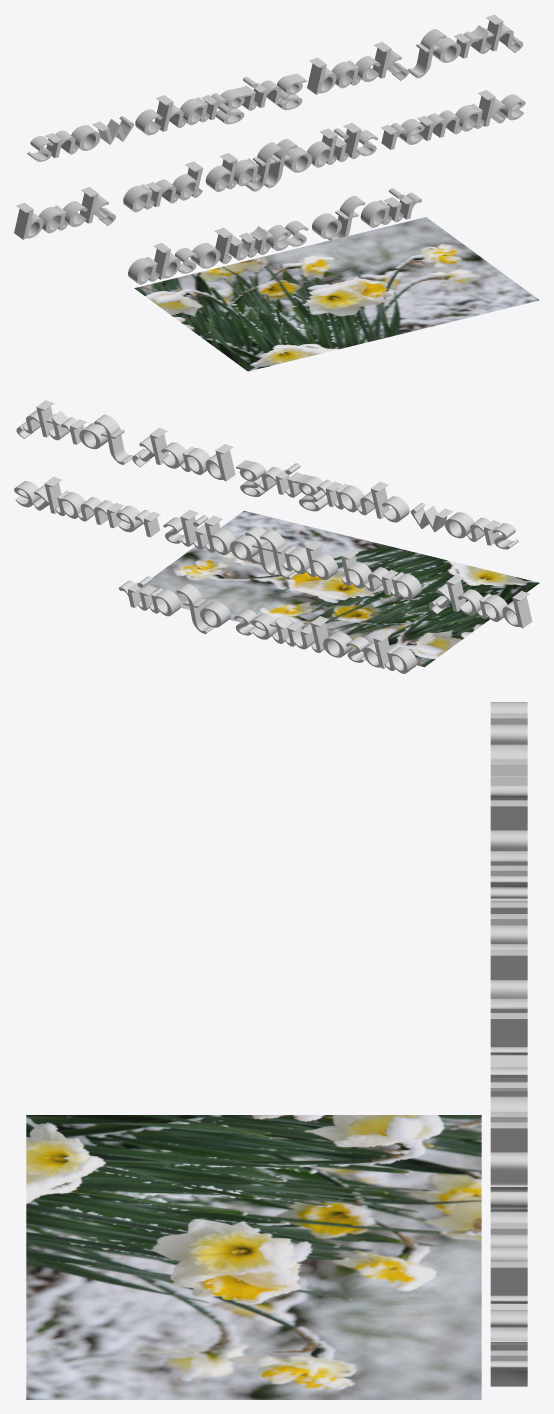
File: haiku1.gltf
The picture shows the model from 3 angles, top to bottom: view 1: azimuth 30°, elevation 25°; view 2: azimuth 150°, elevation 25°; view 3: azimuth 270°, elevation 25°; orthographic projection. The views are drawn at different scales.
Parts seen in each view (by area): view 1: Image Plane, a (×8), f (×4), o (×5), d (×3), b (×3), k (×3), n (×3), g (×2), e (×3), h (×2), c (×3) (+4 smaller); view 2: Image Plane, a (×8), f (×4), o (×5), d (×3), b (×3), k (×3), n (×3), s (×4), g (×2), r (×4), e (×3) (+8 smaller); view 3: Image Plane, h (×2), k (×2), n (×2), r (×2), b, w, m, e, f, i.
Part boxes in pixels (x1,y1,x2,y2): Image Plane: (134,217,539,371); a (×8): (38,60,484,284); f (×4): (245,29,446,240); o (×5): (71,37,461,268); d (×3): (172,128,337,200); b (×3): (14,57,336,279); k (×3): (79,42,506,223); n (×3): (45,80,284,206); g (×2): (215,73,306,124); e (×3): (265,94,525,250); h (×2): (154,14,516,131); c (×3): (63,56,380,226); Image Plane: (141,510,539,667); a (×8): (55,446,507,673); f (×4): (94,414,297,633); o (×5): (79,423,474,657); d (×3): (204,515,371,588); b (×3): (205,444,532,668); k (×3): (33,428,465,611); n (×3): (258,467,500,595); s (×4): (163,517,518,662); g (×2): (236,460,328,511); r (×4): (61,417,342,607); e (×3): (14,481,277,639); Image Plane: (26,1115,481,1399); h (×2): (490,800,527,1191); k (×2): (490,1013,527,1309); n (×2): (490,713,527,943); r (×2): (490,865,527,1386); b: (490,949,527,998); w: (490,759,527,800); m: (490,1223,527,1261); e: (490,1310,527,1344); f: (490,1067,527,1096); i: (490,888,527,913).
Size of the model in its own units: 0.9823 by 0.3429 by 0.4244.
2 materials, 1 textured.
